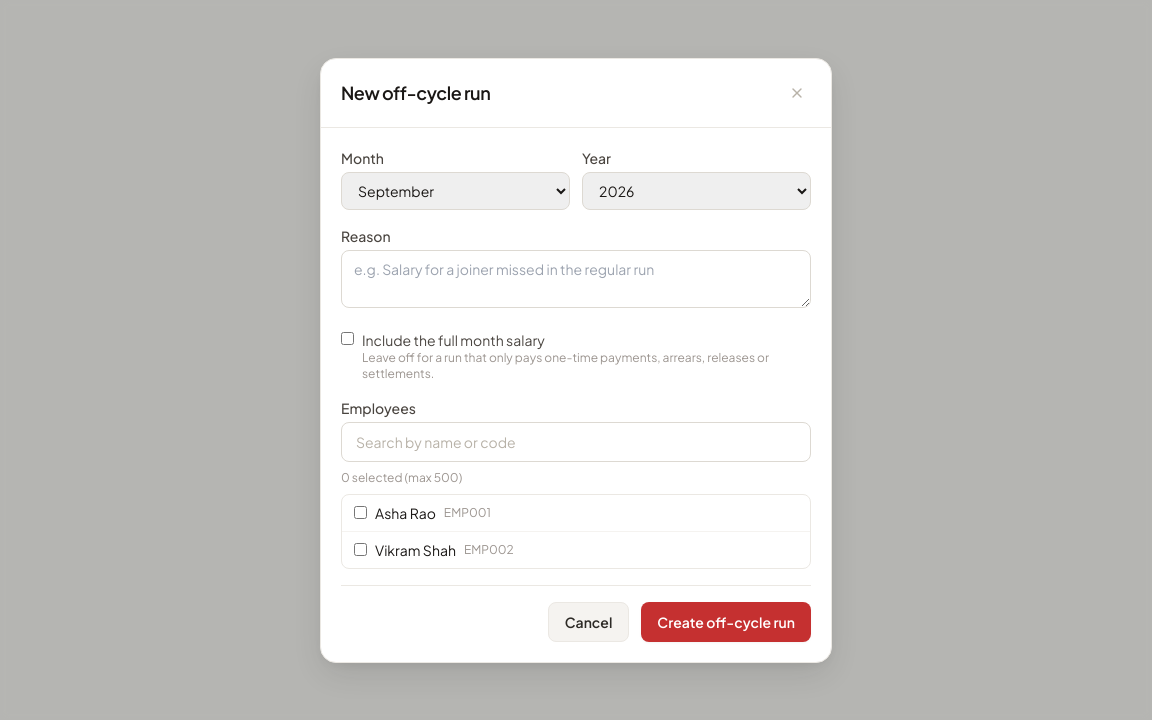
OffCycleRunDialog › filters employees by the search text
expect the text "Asha Rao" is shown: met, box [375,502,436,522]
Type "emp002" into the search field named "Search employees" at (576, 442), box [341,422,811,462]
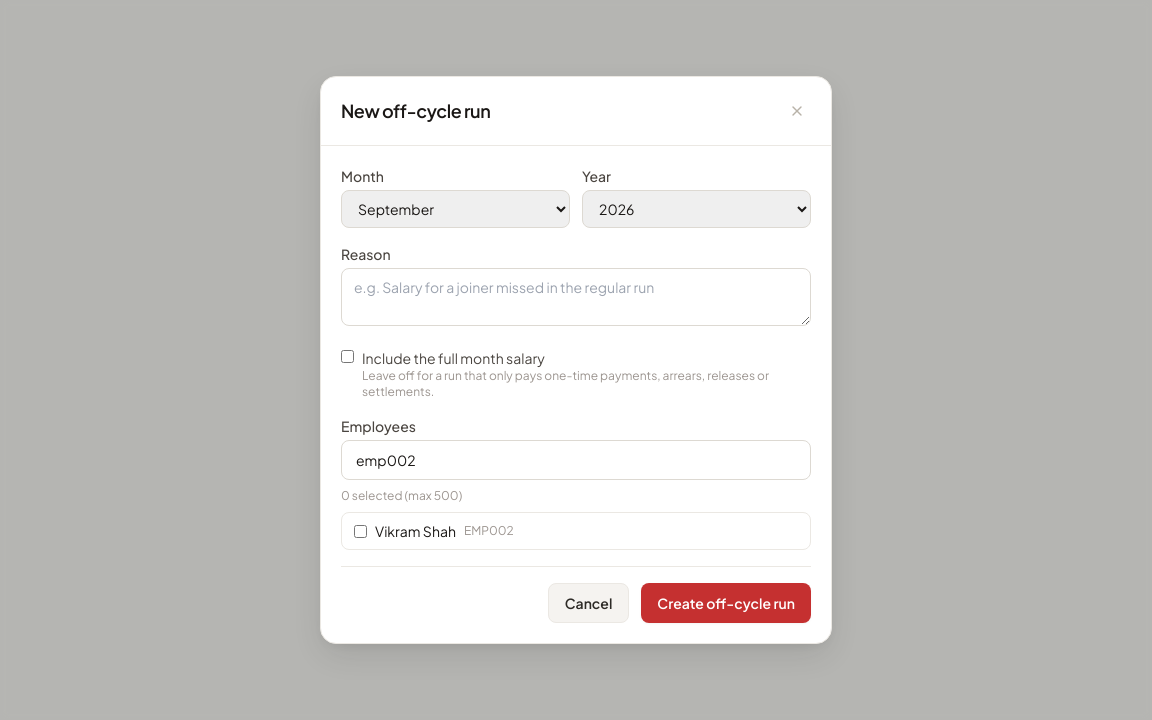
expect the text "Vikram Shah" is shown: met, box [375,521,456,541]
expect the text "Asha Rao" is gone: met
